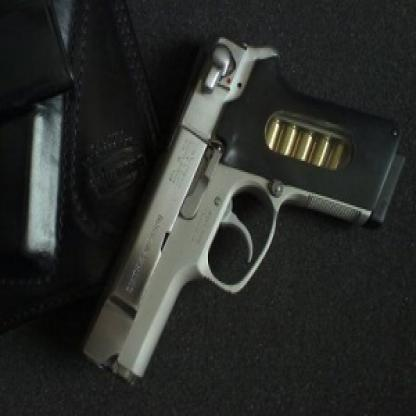Gun: (76, 22, 406, 392)
